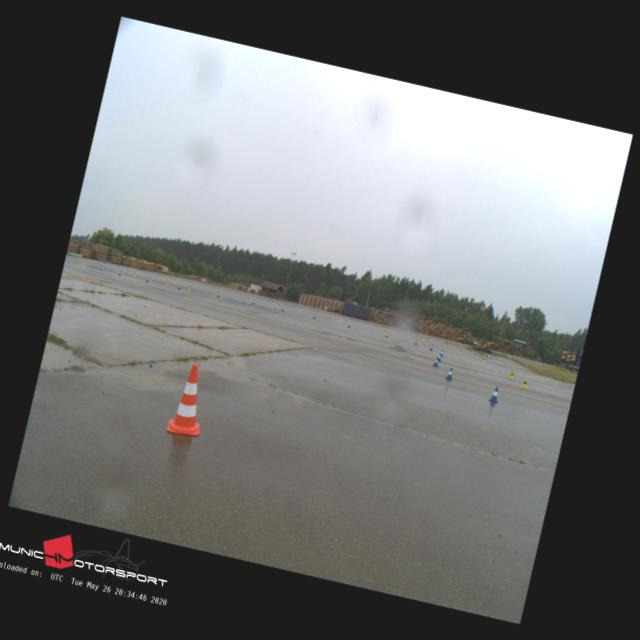blue_cone: (489, 386, 500, 402), (444, 366, 454, 380), (432, 355, 441, 366), (436, 353, 442, 362), (438, 349, 444, 357), (428, 344, 434, 351), (250, 298, 256, 304), (346, 322, 351, 328), (144, 276, 149, 282), (414, 338, 418, 345), (280, 305, 284, 311), (216, 292, 220, 298), (177, 284, 181, 290), (384, 331, 388, 336), (118, 270, 121, 276), (312, 314, 316, 318), (99, 266, 102, 270)
large_orange_cone: (166, 361, 213, 436)
yellow_cone: (520, 377, 528, 388), (508, 370, 514, 380), (481, 356, 486, 363), (424, 338, 429, 344), (343, 318, 348, 324), (165, 279, 170, 285), (458, 348, 462, 354), (382, 328, 386, 333), (308, 310, 312, 315), (276, 303, 280, 308), (148, 276, 152, 281), (246, 296, 250, 300), (214, 290, 218, 294), (132, 272, 136, 276), (77, 256, 80, 260), (188, 284, 190, 289)
